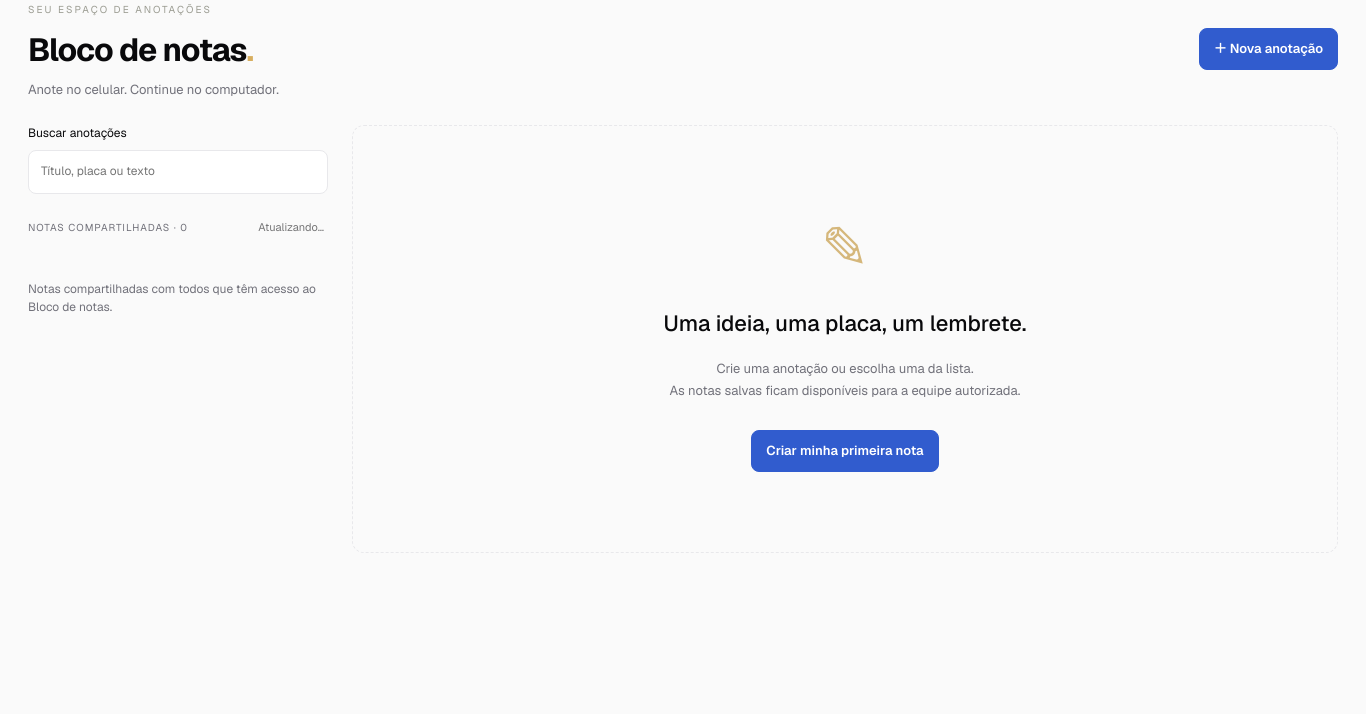
Test case: salva título ou placa com texto e confirma sincronização apenas após resposta
The image size is (1366, 714).
Click the button "＋ Nova anotação" at coordinates (1268, 49), box [1199,28,1338,70]
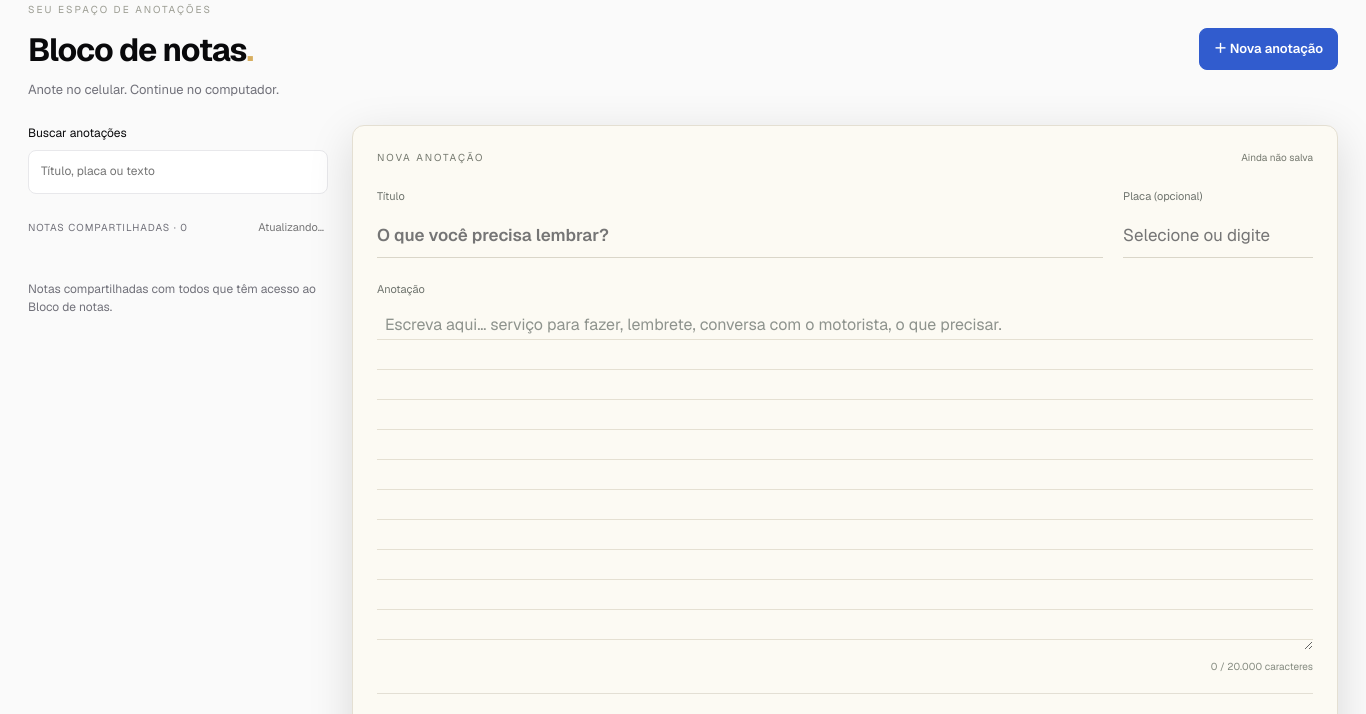
Type "abc1234" into the field labelled "Placa (opcional)" at coordinates (1218, 236), box [1123,213,1313,258]
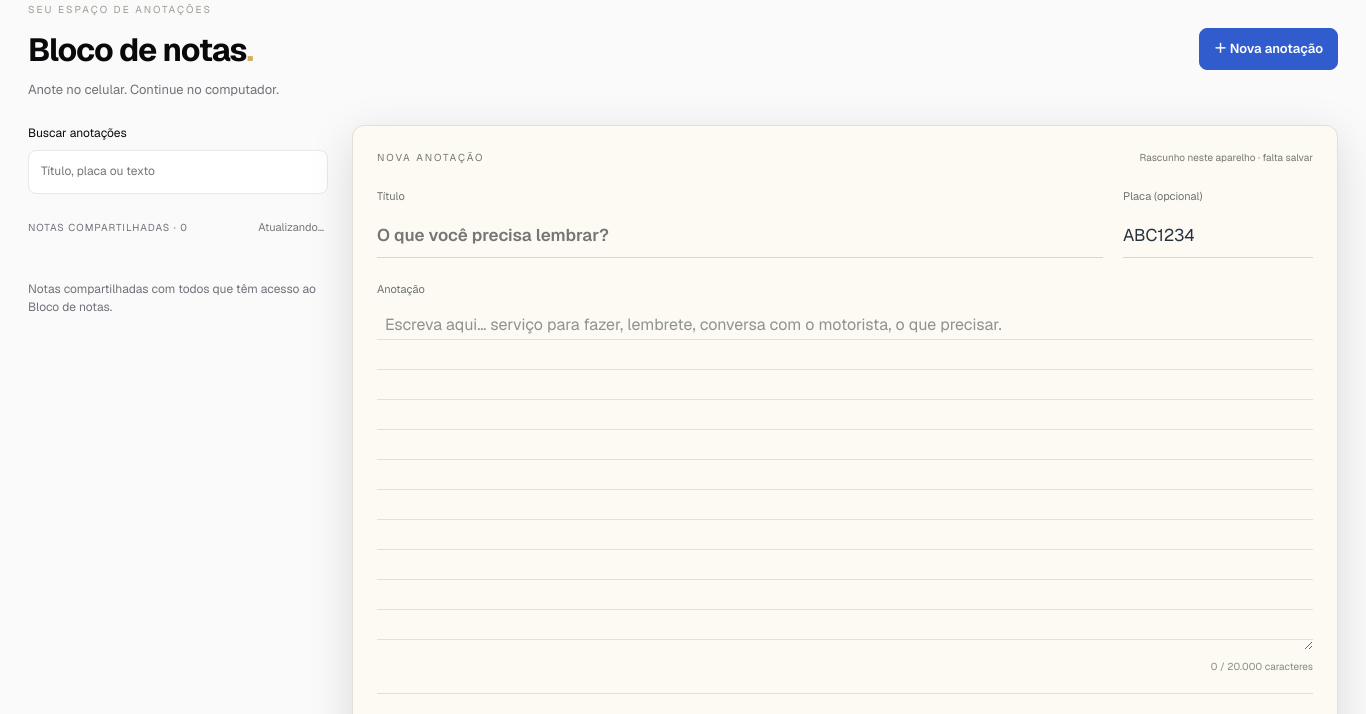
Replace the text in the text box labelled "Anotação" with "Verificar os pneus" at coordinates (845, 480), box [377,310,1313,650]
(page scrolled)
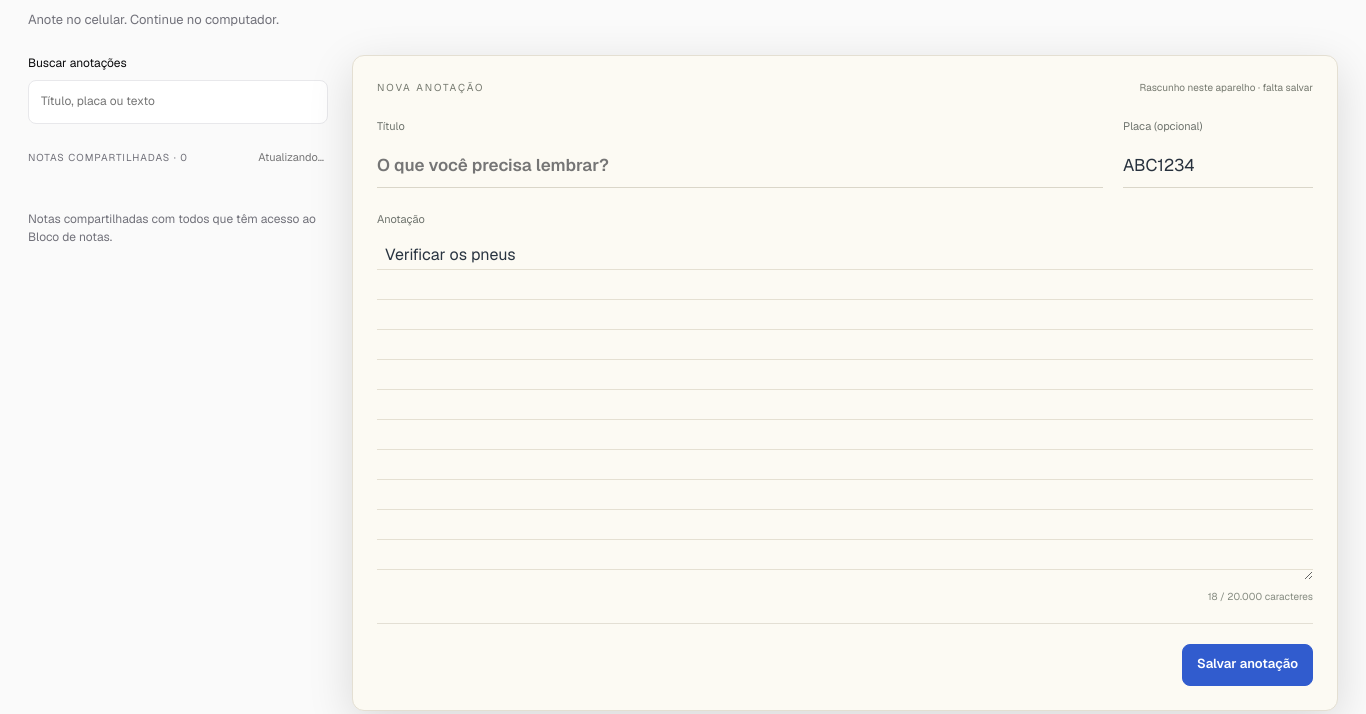
Click the button "Salvar anotação" at coordinates (1247, 665), box [1182,644,1313,686]
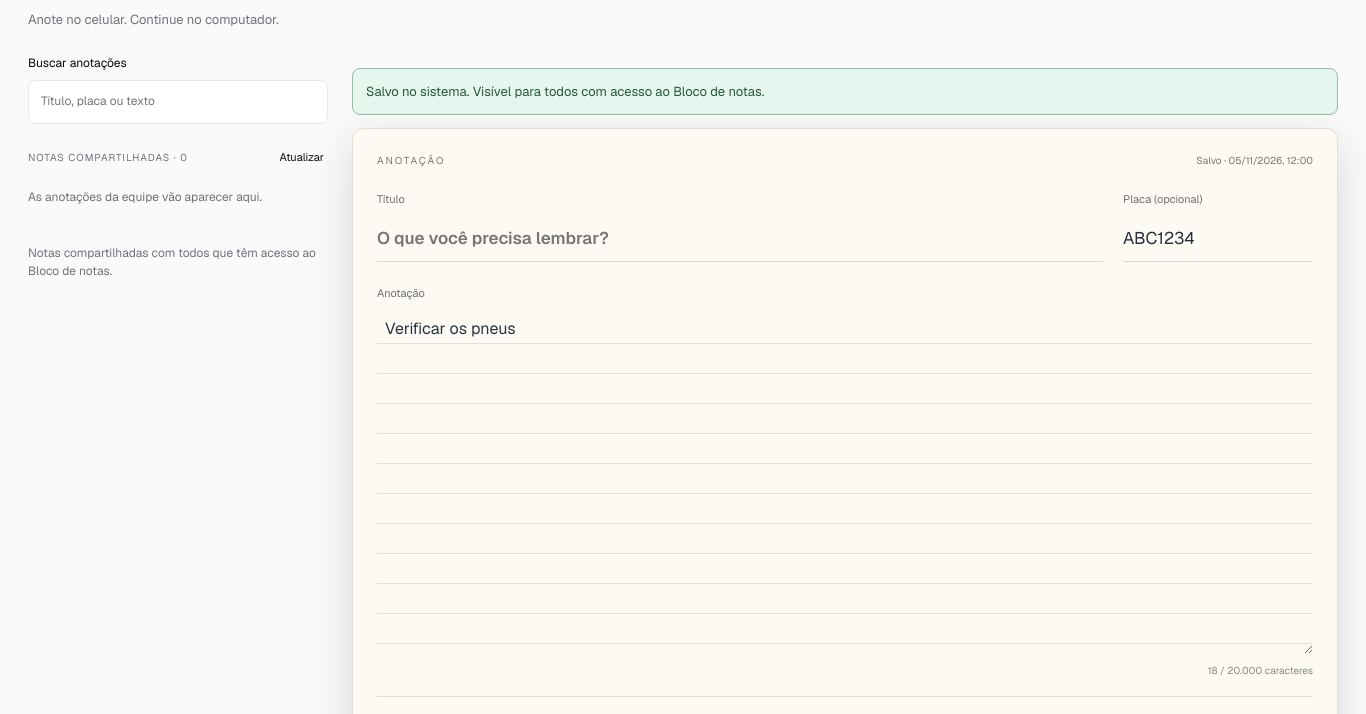
expect the text "Salvo no sistema. Visível para todos com acesso ao Bloco de notas." is shown: met, box [352,68,1338,115]
